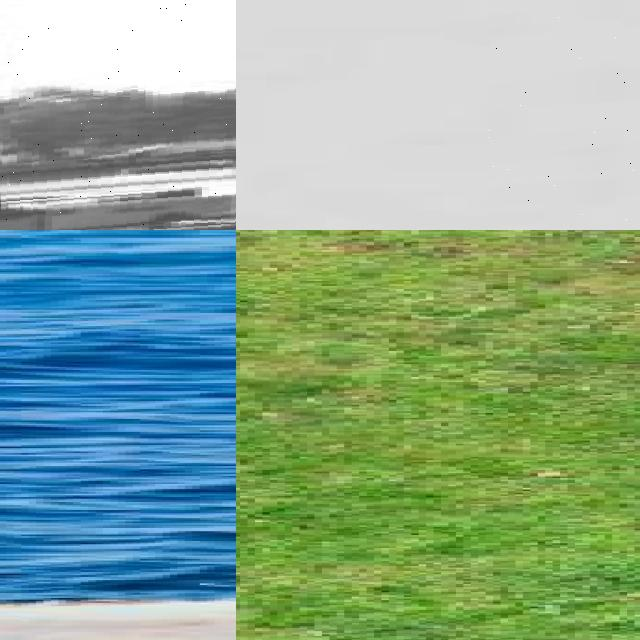street light: (0, 0, 236, 230), (489, 0, 640, 230)
